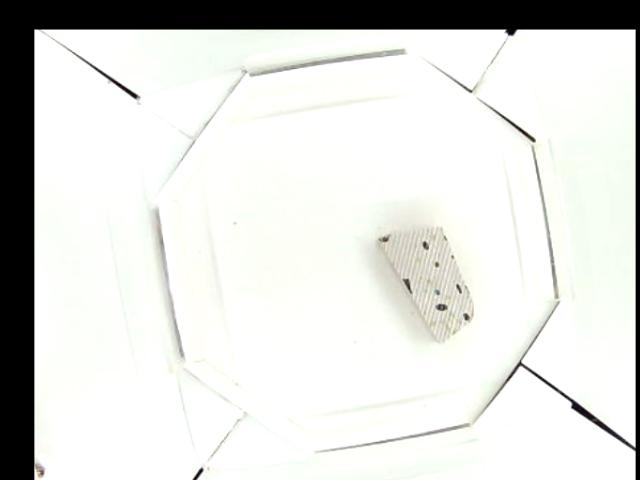China: (376, 225, 474, 341)
